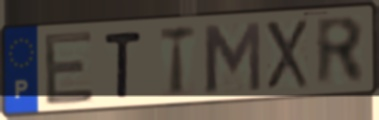E: (41, 28, 96, 109)
M: (200, 19, 264, 96)
R: (313, 15, 368, 90)
T: (102, 29, 145, 101), (158, 23, 198, 100)
X: (262, 17, 311, 92)
